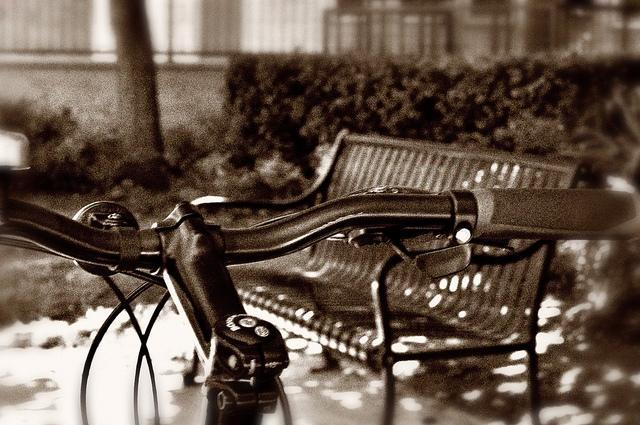bicycle: (6, 183, 640, 415)
